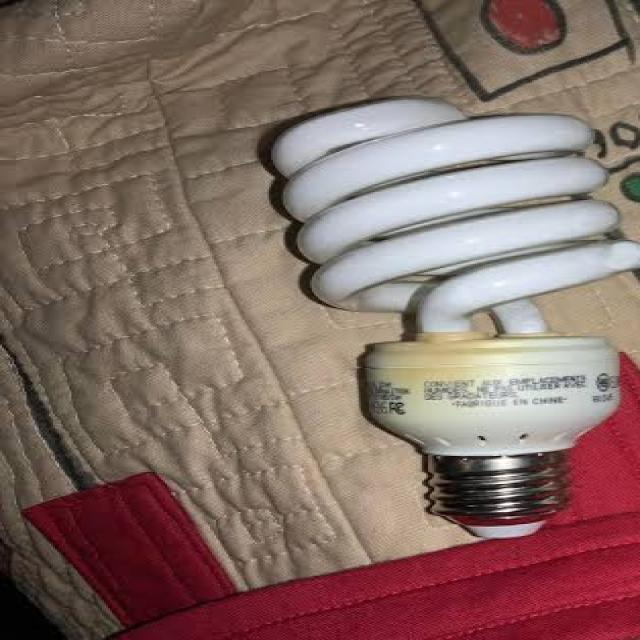bulb: (285, 21, 640, 557)
